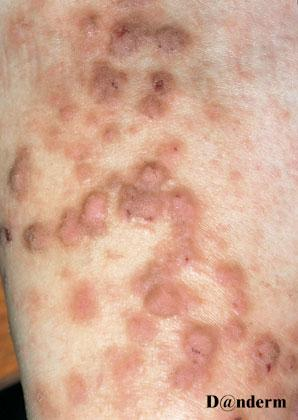hypertrophic lichen planus: (16, 17, 282, 380)
